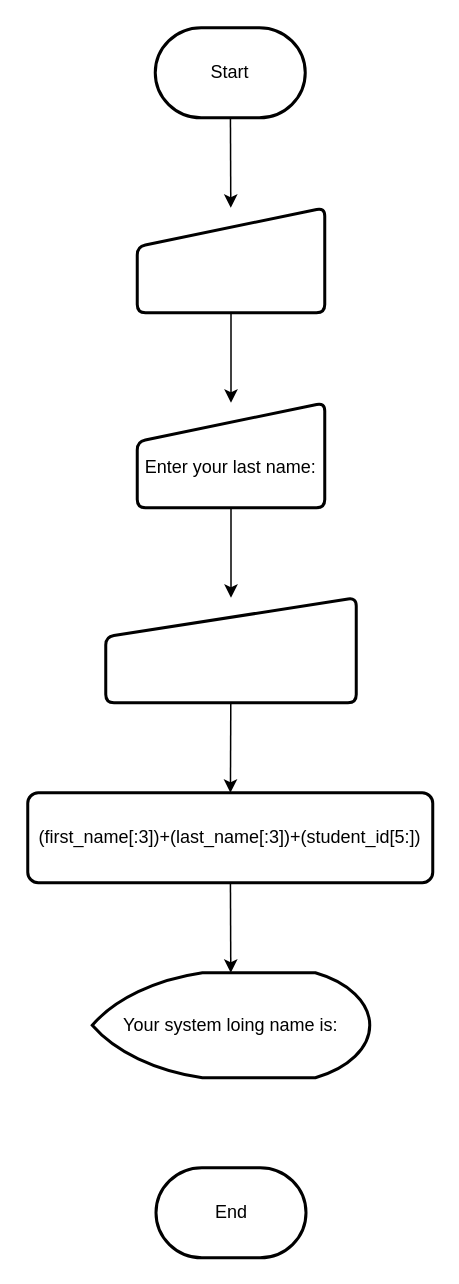
Image size: 459x1284. Some labels were removed from this diagram. Here are the shapes that lost their labels. From the top down, the box of each, then its label:
(135, 206, 326, 314): Enter your first name:
(104, 596, 357, 704): Enter your student ID number:
